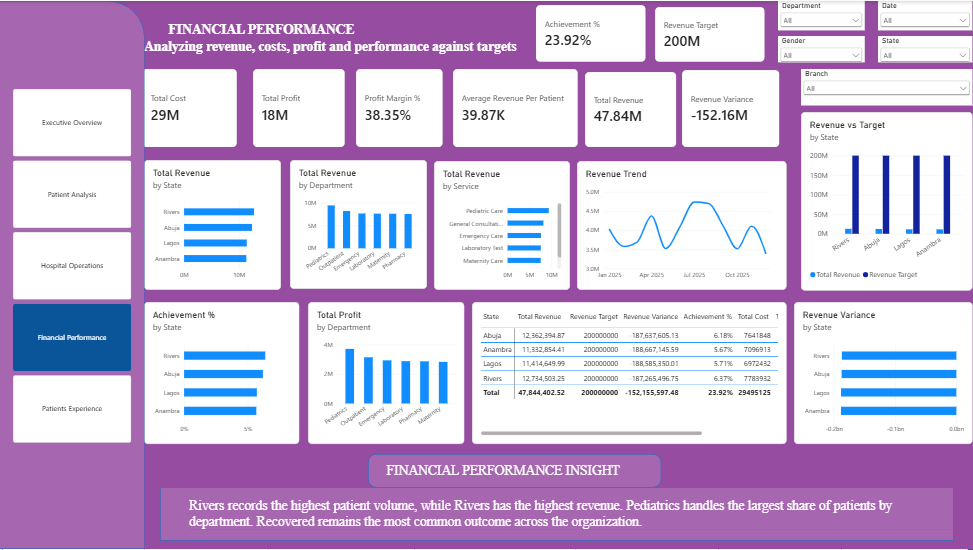

The dashboard page shown, as its layout file describes it:
{"tool":"powerbi","page":{"name":"Financial Performance","canvas":[1920,1080],"ordinal":3},"visuals":[{"type":"textbox","box":[286,0,750,134],"z":0},{"type":"cardVisual","fields":{"Data":["Date_Table.Total Revenue"]},"box":[1154,140,180,148],"z":1000},{"type":"cardVisual","fields":{"Data":["Date_Table.Total Cost"]},"box":[282,134,187.9,154.8],"z":2000},{"type":"cardVisual","fields":{"Data":["Date_Table.Total Profit"]},"box":[500,134,181.7,154.8],"z":3000},{"type":"cardVisual","fields":{"Data":["Date_Table.Profit Margin %"]},"box":[704,134,171.4,154.8],"z":4000},{"type":"cardVisual","fields":{"Data":["Date_Table.Revenue Target"]},"box":[1292,12,216,108],"z":5000},{"type":"cardVisual","fields":{"Data":["Date_Table.Revenue Variance"]},"box":[1346,136,192,152],"z":6000},{"type":"cardVisual","fields":{"Data":["Date_Table.Achievement %"]},"box":[1058,8,216,112],"z":7000},{"type":"cardVisual","fields":{"Data":["Date_Table.Average Revenue Per Patient"]},"box":[894,134,246,154],"z":8000},{"type":"clusteredBarChart","fields":{"Category":["Patient_Visits.State"],"Y":["Date_Table.Total Revenue"]},"box":[286,314,270.5,256],"z":9000},{"type":"clusteredColumnChart","fields":{"Category":["Patient_Visits.Department"],"Y":["Date_Table.Total Revenue"]},"box":[574,314,270,254],"z":10000},{"type":"clusteredBarChart","fields":{"Category":["Patient_Visits.Service"],"Y":["Date_Table.Total Revenue"]},"box":[858,316,268.4,253.9],"z":11000},{"type":"clusteredColumnChart","fields":{"Category":["Patient_Visits.Department"],"Y":["Date_Table.Total Profit"]},"box":[608,594,308,280],"z":12000},{"type":"lineChart","title":"Revenue Trend","fields":{"Category":["Date_Table.Date.Variation.Date Hierarchy.Year","Date_Table.Date.Variation.Date Hierarchy.Month"],"Y":["Date_Table.Total Revenue"]},"box":[1140,316,412.9,253.9],"z":13000},{"type":"clusteredColumnChart","title":"Revenue vs  Target","fields":{"Category":["Patient_Visits.State"],"Y":["Date_Table.Total Revenue","Date_Table.Revenue Target"]},"box":[1580,218,338,352],"z":14000},{"type":"clusteredBarChart","fields":{"Category":["Patient_Visits.State"],"Y":["Date_Table.Revenue Variance"]},"box":[1566,594,352,280],"z":15000},{"type":"clusteredBarChart","fields":{"Category":["Patient_Visits.State"],"Y":["Date_Table.Achievement %"]},"box":[286,594,306,280],"z":16000},{"type":"pivotTable","fields":{"Rows":["Patient_Visits.State"],"Values":["Date_Table.Total Revenue","Date_Table.Revenue Target","Date_Table.Revenue Variance","Date_Table.Achievement %","Date_Table.Total Cost","Date_Table.Total Profit","Date_Table.Profit Margin %"]},"box":[932,594,620,280],"z":17000},{"type":"slicer","fields":{"Values":["Date_Table.Date"]},"box":[1732.1,0,185.8,57.8],"z":18000},{"type":"slicer","fields":{"Values":["Patient_Visits.State"]},"box":[1732.1,68.1,185.8,51.6],"z":19000},{"type":"slicer","fields":{"Values":["Patient_Visits.Branch"]},"box":[1580,134,338,72],"z":20000},{"type":"slicer","fields":{"Values":["Patient_Visits.Department"]},"box":[1536,0,171.4,57.8],"z":21000},{"type":"slicer","fields":{"Values":["Patient_Visits.Gender"]},"box":[1536,68.1,171.4,51.6],"z":22000},{"type":"shape","box":[0,0,287,1079.7],"z":23000},{"type":"pageNavigator","box":[26.8,173.4,233.3,699.9],"z":24000},{"type":"shape","box":[318,958,1564,106],"z":25000},{"type":"textbox","box":[374,980,1508,84],"z":26000},{"type":"shape","box":[728,892,578,66],"z":26001},{"type":"textbox","box":[762,808,572,118],"z":26002},{"type":"textbox","box":[100,100,300,300],"z":26003},{"type":"textbox","box":[704,910,662,48],"z":26004}]}

Visuals, with their boxes in screenshot pixels (x1, y1, x2, y2), scaled from the page's 1920x1080 canvas onto the 973x550 screenshot:
textbox: detection(145, 0, 525, 68)
cardVisual - Date_Table.Total Revenue: detection(585, 71, 676, 147)
cardVisual - Date_Table.Total Cost: detection(143, 68, 238, 147)
cardVisual - Date_Table.Total Profit: detection(253, 68, 345, 147)
cardVisual - Date_Table.Profit Margin %: detection(357, 68, 444, 147)
cardVisual - Date_Table.Revenue Target: detection(655, 6, 764, 61)
cardVisual - Date_Table.Revenue Variance: detection(682, 69, 779, 147)
cardVisual - Date_Table.Achievement %: detection(536, 4, 646, 61)
cardVisual - Date_Table.Average Revenue Per Patient: detection(453, 68, 578, 147)
clusteredBarChart - Patient_Visits.State x Date_Table.Total Revenue: detection(145, 160, 282, 290)
clusteredColumnChart - Patient_Visits.Department x Date_Table.Total Revenue: detection(291, 160, 428, 289)
clusteredBarChart - Patient_Visits.Service x Date_Table.Total Revenue: detection(435, 161, 571, 290)
clusteredColumnChart - Patient_Visits.Department x Date_Table.Total Profit: detection(308, 302, 464, 445)
"Revenue Trend" lineChart: detection(578, 161, 787, 290)
"Revenue vs  Target" clusteredColumnChart: detection(801, 111, 972, 290)
clusteredBarChart - Patient_Visits.State x Date_Table.Revenue Variance: detection(794, 302, 972, 445)
clusteredBarChart - Patient_Visits.State x Date_Table.Achievement %: detection(145, 302, 300, 445)
pivotTable - Patient_Visits.State x Date_Table.Total Revenue: detection(472, 302, 787, 445)
slicer - Date_Table.Date: detection(878, 0, 972, 29)
slicer - Patient_Visits.State: detection(878, 35, 972, 61)
slicer - Patient_Visits.Branch: detection(801, 68, 972, 105)
slicer - Patient_Visits.Department: detection(778, 0, 865, 29)
slicer - Patient_Visits.Gender: detection(778, 35, 865, 61)
shape: detection(0, 0, 145, 549)
pageNavigator: detection(14, 88, 132, 445)
shape: detection(161, 488, 954, 542)
textbox: detection(190, 499, 954, 542)
shape: detection(369, 454, 662, 488)
textbox: detection(386, 411, 676, 472)
textbox: detection(51, 51, 203, 204)
textbox: detection(357, 463, 692, 488)
